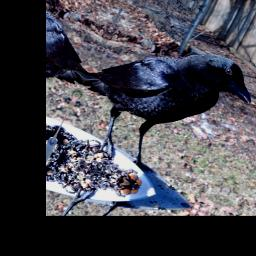Crow: (54, 17, 256, 195)
